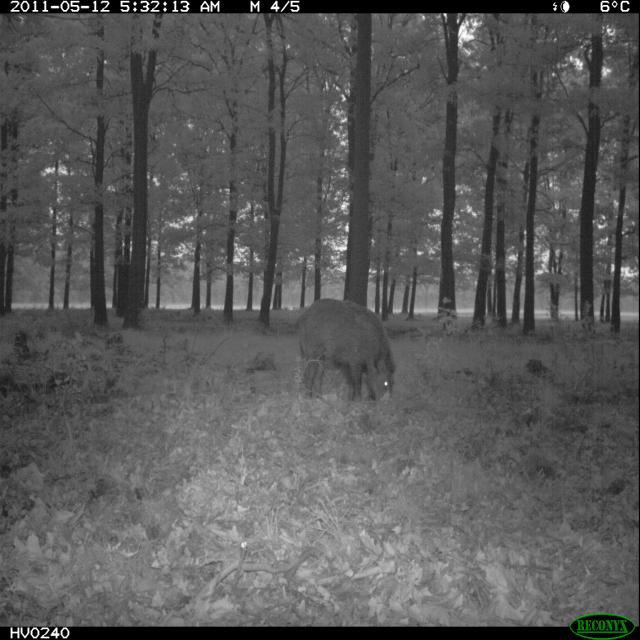boar: (268, 292, 411, 423)
